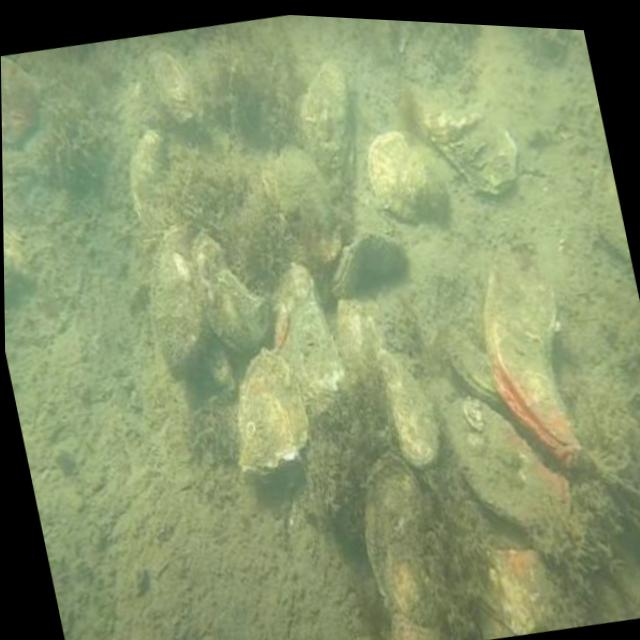Oyster-Closed: (484, 250, 579, 456), (331, 234, 409, 302), (441, 326, 499, 410)
Oyster-Indeterminate: (433, 378, 571, 523), (365, 455, 440, 628), (273, 263, 344, 408), (192, 238, 276, 356), (154, 224, 213, 376), (240, 351, 311, 467), (276, 142, 342, 264), (374, 353, 440, 472), (366, 132, 454, 221), (424, 109, 520, 190), (296, 61, 353, 184), (476, 542, 550, 633), (127, 134, 172, 236), (146, 46, 197, 128), (596, 141, 629, 255), (1, 56, 41, 144), (3, 223, 32, 298), (390, 613, 447, 640), (262, 155, 278, 207)
